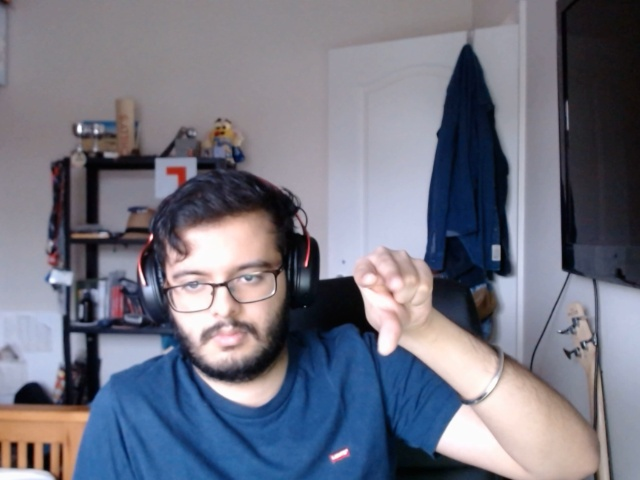No: (350, 240, 443, 361)
